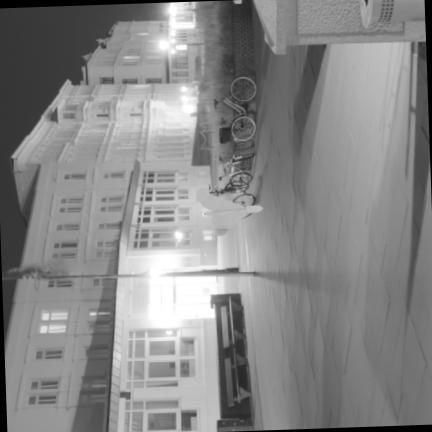Shahed: (196, 188, 262, 234)
